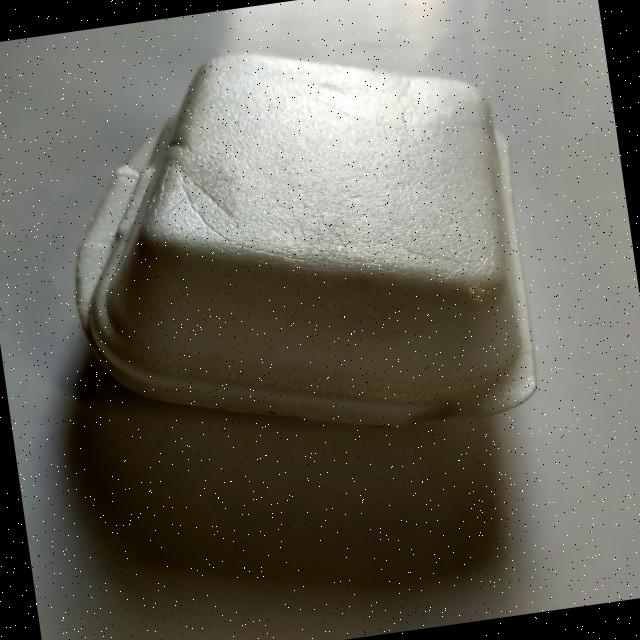styrofoam: (42, 15, 546, 474)
